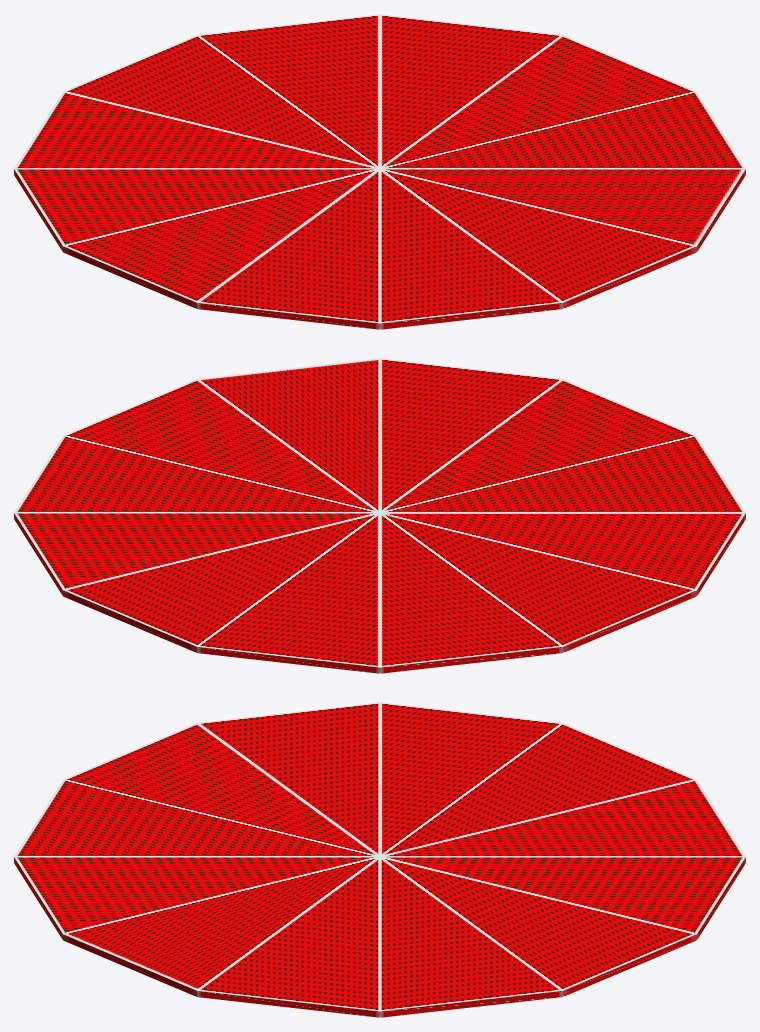
File: Killplanes.obj
3 views of the same model, one above another, from view 1: azimuth 30°, elevation 25°; view 2: azimuth 150°, elevation 25°; view 3: azimuth 270°, elevation 25° (orthographic).
Bounding box in the file's own units: 3140 × 30 × 3140.
1 material, 1 textured.
